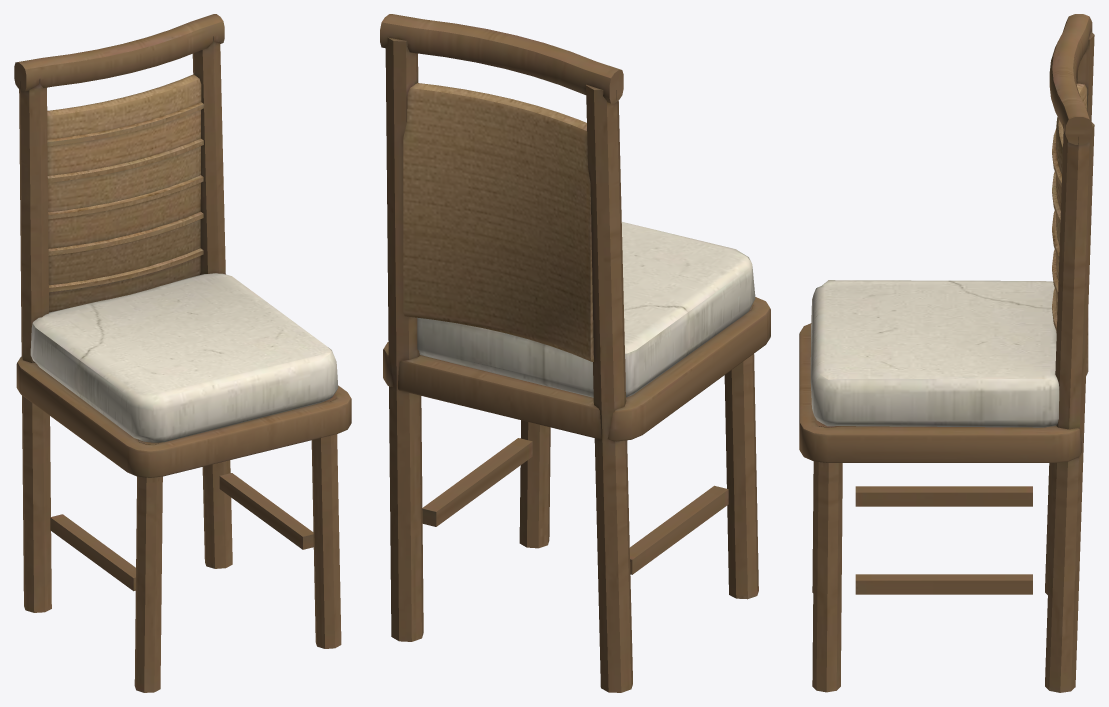
Rendered from dining_chair_rattan.glb.
3 renders of one model, left to right at view 1: azimuth 30°, elevation 25°; view 2: azimuth 150°, elevation 25°; view 3: azimuth 270°, elevation 25°, orthographic. The views are drawn at different scales.
Visible parts, largest first — view 1: dining_chair_rattan; view 2: dining_chair_rattan; view 3: dining_chair_rattan.
Boxes of the visible parts, x1=… form: dining_chair_rattan: x1=14, y1=14, x2=351, y2=692; dining_chair_rattan: x1=380, y1=14, x2=770, y2=692; dining_chair_rattan: x1=799, y1=14, x2=1094, y2=692.
Bounding box in the file's own units: 0.4599 × 1.07 × 0.4989.
Materials: 1 (1 with a texture image).
